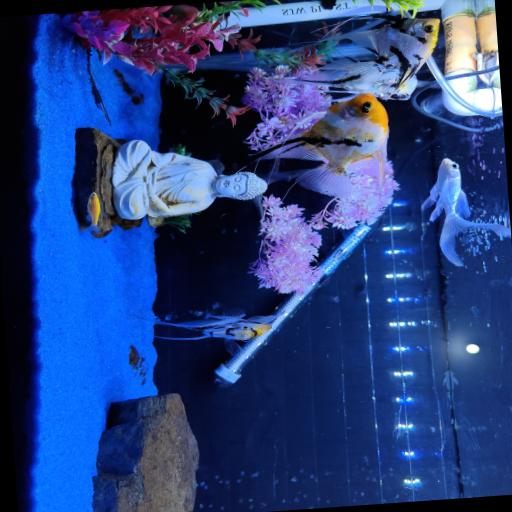Fish: (256, 93, 387, 198), (296, 15, 438, 98), (421, 158, 510, 265), (132, 310, 275, 354), (84, 191, 99, 232)
